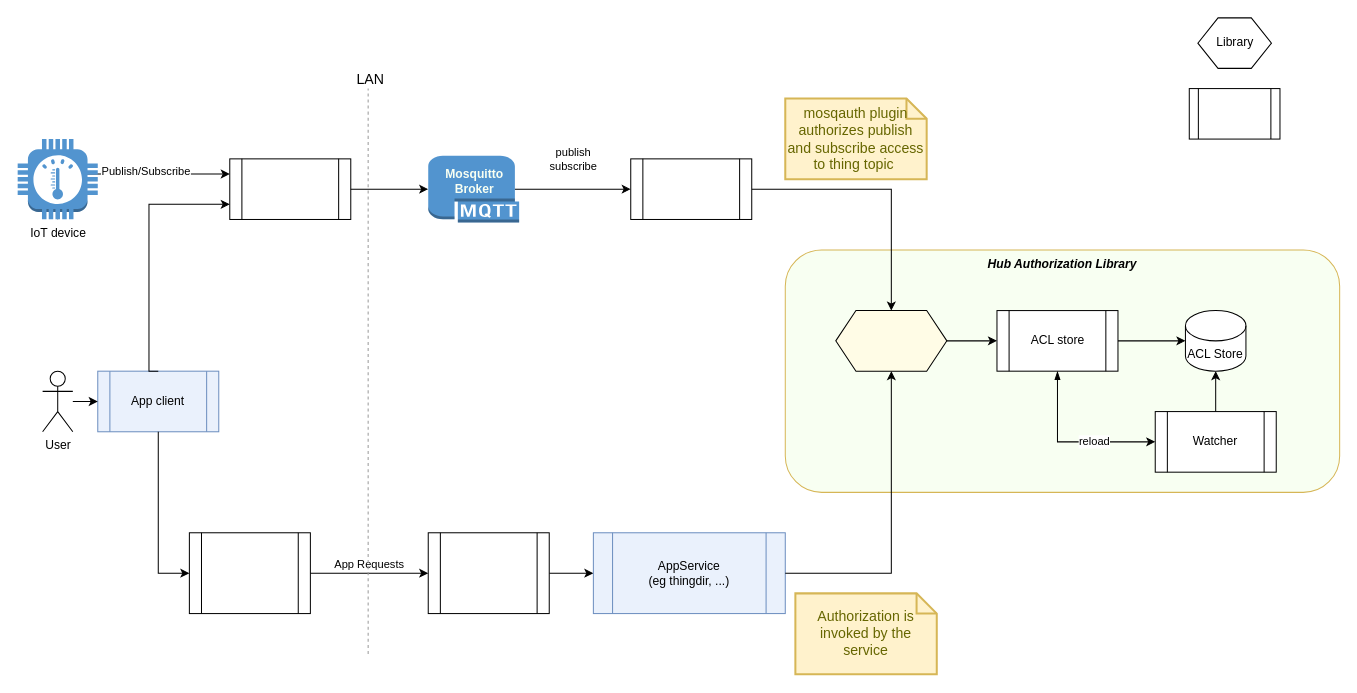
Some shapes in this 1357 by 693 pixel diagram are drawn without their labels. The box of each missing label's shape, as (x1, y1, x2, y2) in pixels:
Authorizer: (835, 310, 947, 371)
mosqauth plugin: (630, 158, 752, 219)
MQTT client: (229, 158, 351, 219)
Process: (1188, 88, 1280, 139)
TLS Client: (188, 532, 310, 614)
TLS Server: (427, 532, 549, 614)
